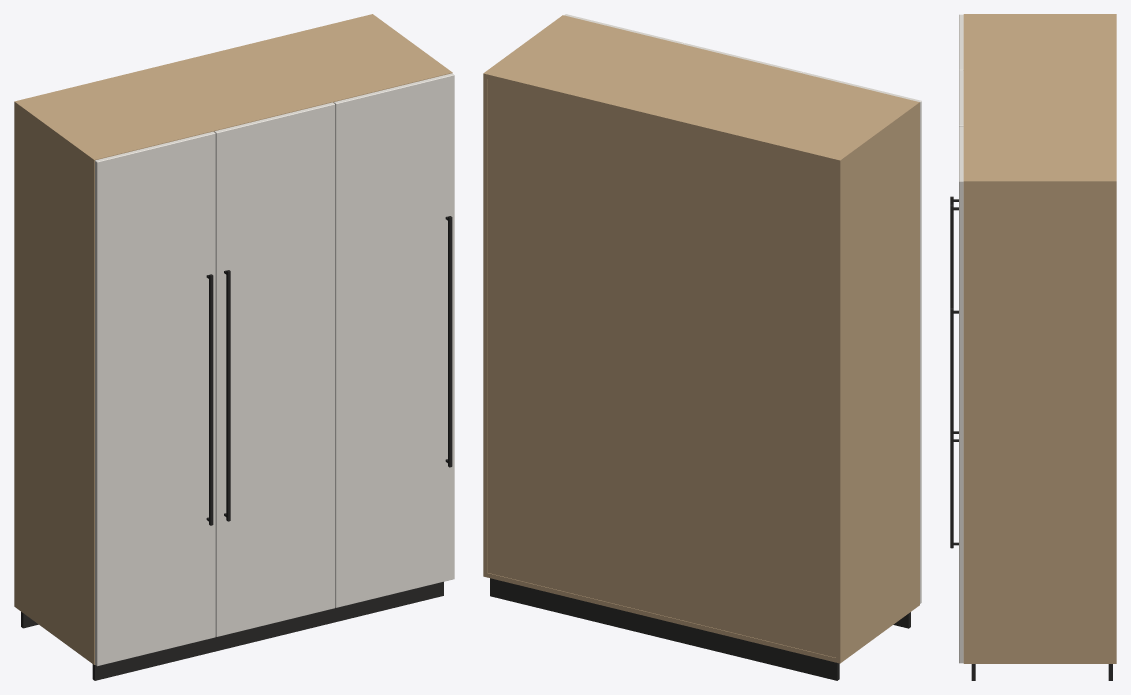
The model's file is 03_szafa_3d_150.glb.
3 renders of one model, left to right at view 1: azimuth 30°, elevation 25°; view 2: azimuth 150°, elevation 25°; view 3: azimuth 270°, elevation 25°, orthographic. The views are drawn at different scales.
Parts seen in each view (by area): view 1: Korpus, Front_drzwi_2, Front_drzwi_1, Front_drzwi_3, Cokol, Uchwyty; view 2: Korpus, Cokol, Front_drzwi_1; view 3: Korpus, Front_drzwi_3, Uchwyty, Front_drzwi_2, Front_drzwi_1.
Boxes of the visible parts, x1=… form: Korpus: x1=14, y1=14, x2=452, y2=664; Front_drzwi_2: x1=214, y1=102, x2=335, y2=636; Front_drzwi_1: x1=95, y1=131, x2=215, y2=666; Front_drzwi_3: x1=334, y1=73, x2=454, y2=607; Cokol: x1=21, y1=582, x2=443, y2=680; Uchwyty: x1=206, y1=216, x2=452, y2=525; Korpus: x1=483, y1=15, x2=919, y2=663; Cokol: x1=490, y1=578, x2=910, y2=680; Front_drzwi_1: x1=802, y1=72, x2=921, y2=603; Korpus: x1=963, y1=14, x2=1116, y2=663; Front_drzwi_3: x1=959, y1=126, x2=963, y2=663; Uchwyty: x1=950, y1=196, x2=958, y2=548; Front_drzwi_2: x1=959, y1=70, x2=963, y2=126; Front_drzwi_1: x1=959, y1=14, x2=963, y2=70.
Size of the model in its own units: 1.5 by 2.1 by 0.63.
